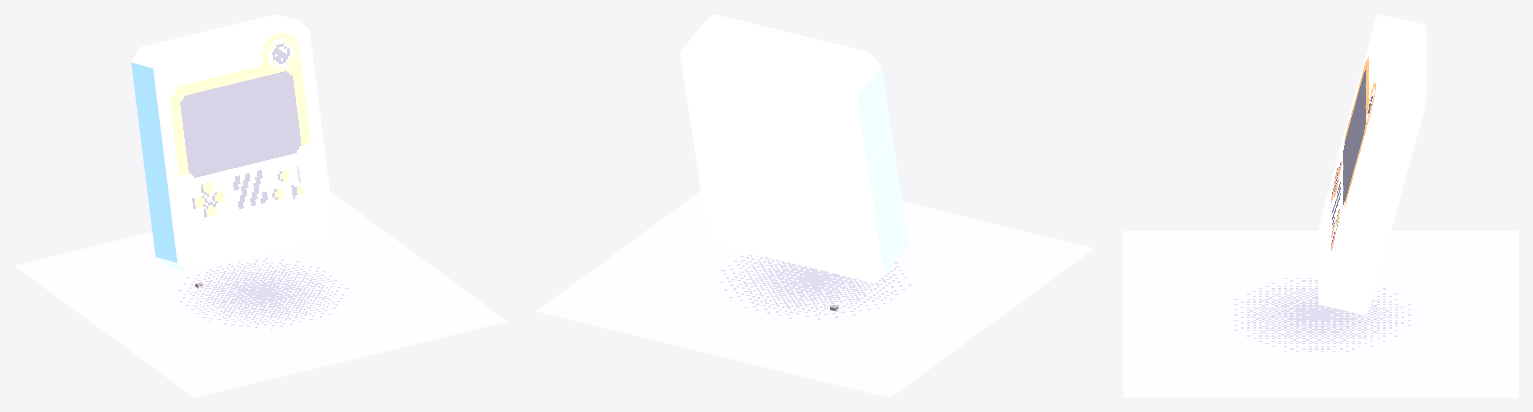
The model's file is console.glb.
3 views of the same model, side by side, from view 1: azimuth 30°, elevation 25°; view 2: azimuth 150°, elevation 25°; view 3: azimuth 270°, elevation 25° (orthographic). The views are drawn at different scales.
Visible parts, largest first — view 1: Shadow, Console; view 2: Shadow, Console; view 3: Shadow, Console.
Part boxes in pixels (left/top/right/bottom): Shadow: left=14, top=191, right=507, bottom=397; Console: left=131, top=14, right=333, bottom=272; Shadow: left=536, top=191, right=1094, bottom=397; Console: left=679, top=14, right=908, bottom=283; Shadow: left=1123, top=230, right=1518, bottom=397; Console: left=1318, top=14, right=1426, bottom=315.
Size of the model in its own units: 4 by 2.95 by 4.
